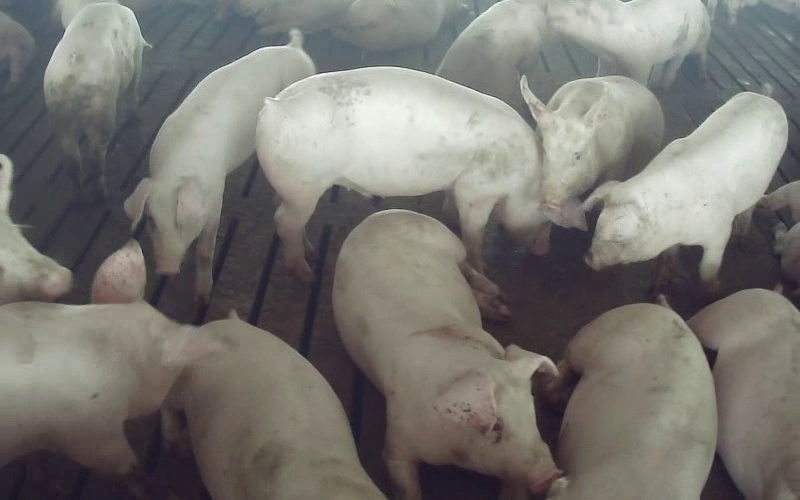pig: (333, 210, 560, 499), (256, 67, 550, 277), (125, 29, 314, 302), (0, 241, 221, 471), (163, 312, 383, 499), (584, 92, 787, 283), (545, 303, 716, 499), (687, 290, 799, 499), (520, 75, 663, 229), (44, 2, 148, 196), (547, 0, 710, 89), (436, 0, 545, 115)
